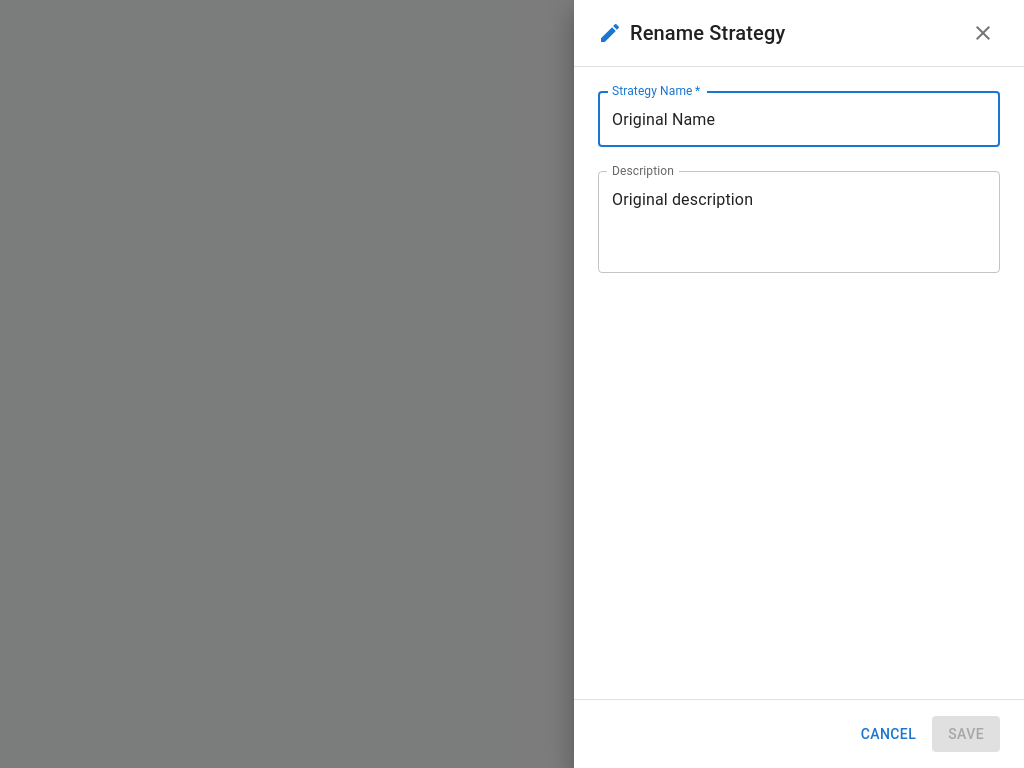
Scenario: RenameStrategyDrawer › enables Save button when name is changed
The image size is (1024, 768).
Replace the text in the field labelled "Strategy Name *" with "New Name". click: (799, 119)
box: [598,91,1000,147]
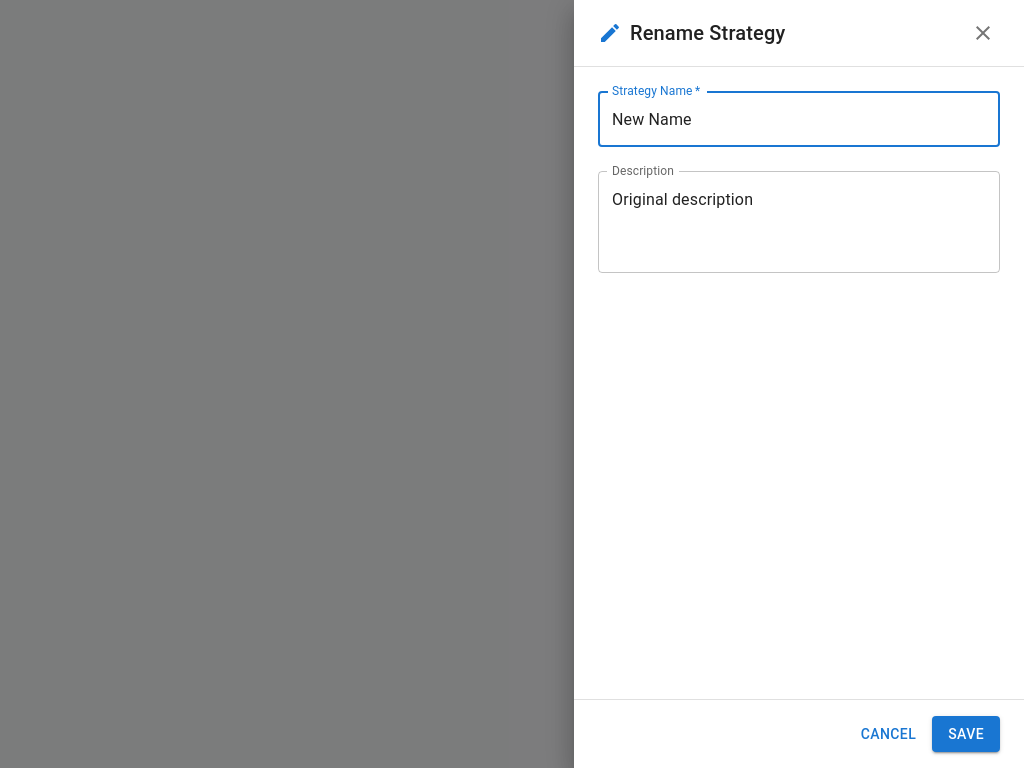
Check: the button "Save" is enabled, box [932,716,1000,752]
